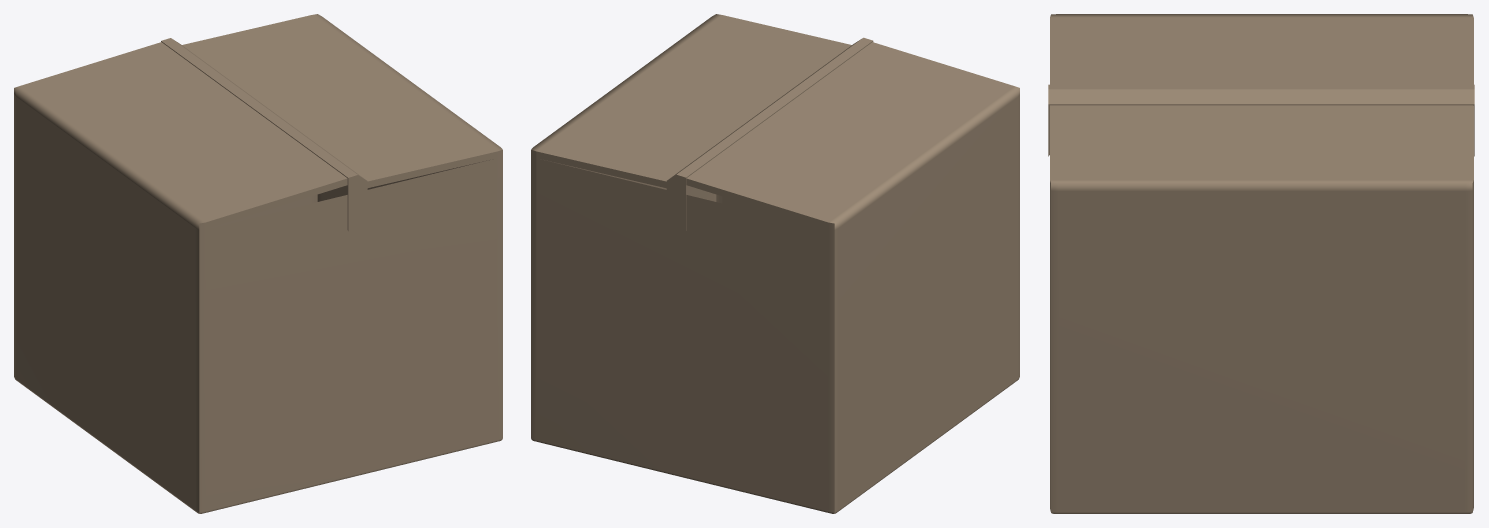
3 views of the same model, side by side, from view 1: azimuth 30°, elevation 25°; view 2: azimuth 150°, elevation 25°; view 3: azimuth 270°, elevation 25° (orthographic). The views are drawn at different scales.
Parts seen in each view (by area): view 1: BOX10, Box10_2; view 2: BOX10, Box10_2; view 3: BOX10, Box10_2.
Boxes of the visible parts, left/top/right/bottom form: BOX10: left=14, top=14, right=502, bottom=513; Box10_2: left=161, top=38, right=367, bottom=231; BOX10: left=531, top=14, right=1019, bottom=513; Box10_2: left=666, top=37, right=873, bottom=231; BOX10: left=1050, top=14, right=1473, bottom=513; Box10_2: left=1048, top=84, right=1474, bottom=156.
Bounding box in the file's own units: 0.509 × 0.4826 × 0.5408.
